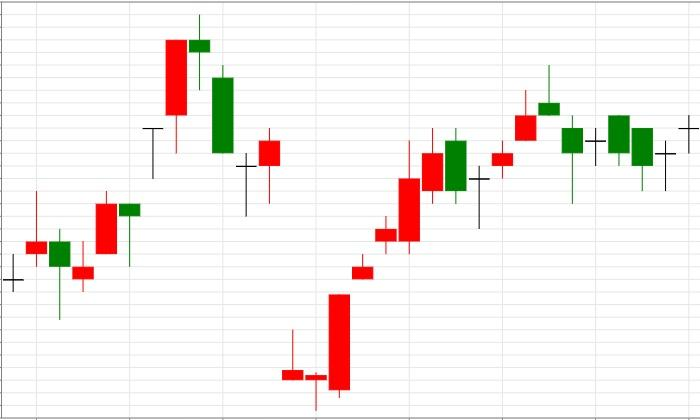evening_star_fall: (72, 14, 234, 292)
